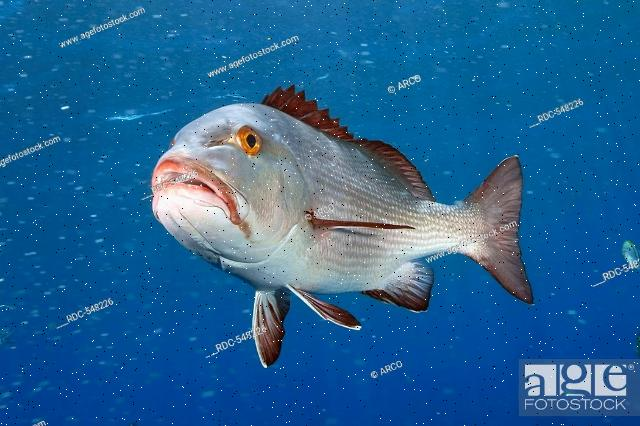Mulut: (130, 141, 258, 245)
Sirip Anal: (359, 252, 443, 322)
Sirip Dada: (292, 193, 424, 267)
Sirip Ekor: (459, 148, 548, 316)
Sirip Perut: (241, 275, 371, 385)
Sirip Punggung: (254, 79, 442, 209)
